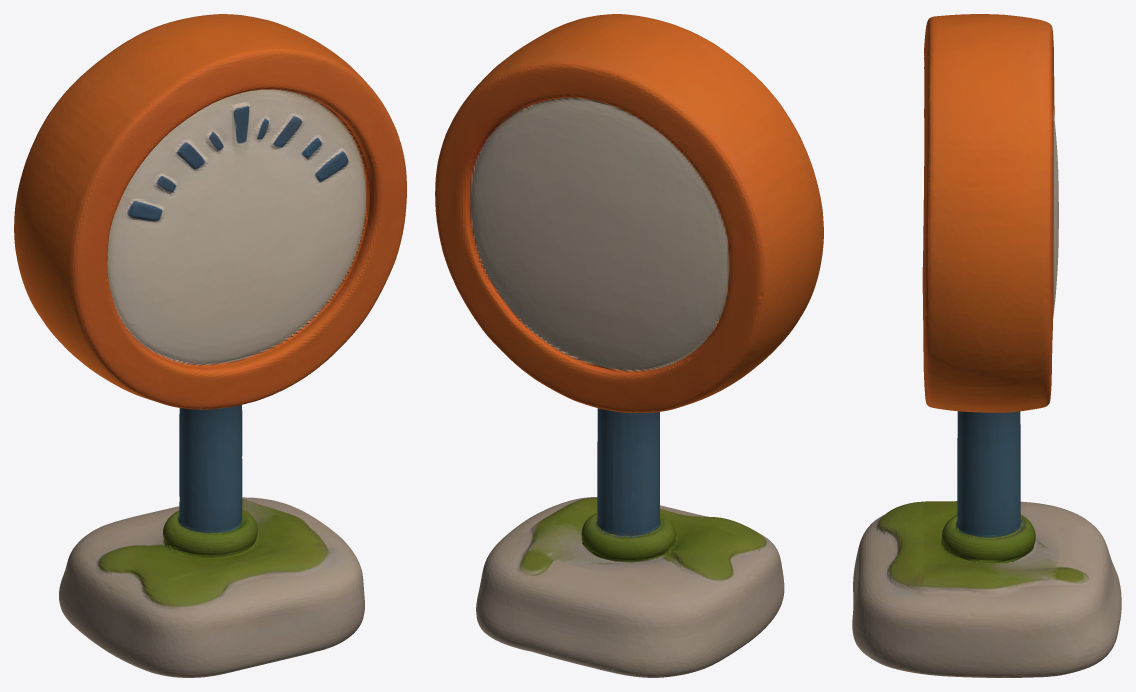
File: roche-dial.glb
3 views of the same model, side by side, from view 1: azimuth 30°, elevation 25°; view 2: azimuth 150°, elevation 25°; view 3: azimuth 270°, elevation 25° (orthographic).
Parts seen in each view (by area): view 1: textured_mesh.obj; view 2: textured_mesh.obj; view 3: textured_mesh.obj.
Boxes of the visible parts, x1=… form: textured_mesh.obj: x1=14, y1=14, x2=406, y2=677; textured_mesh.obj: x1=435, y1=14, x2=823, y2=677; textured_mesh.obj: x1=852, y1=14, x2=1121, y2=677.
Size of the model in its own units: 1.24 by 1.99 by 0.8224.
1 material, 1 textured.
